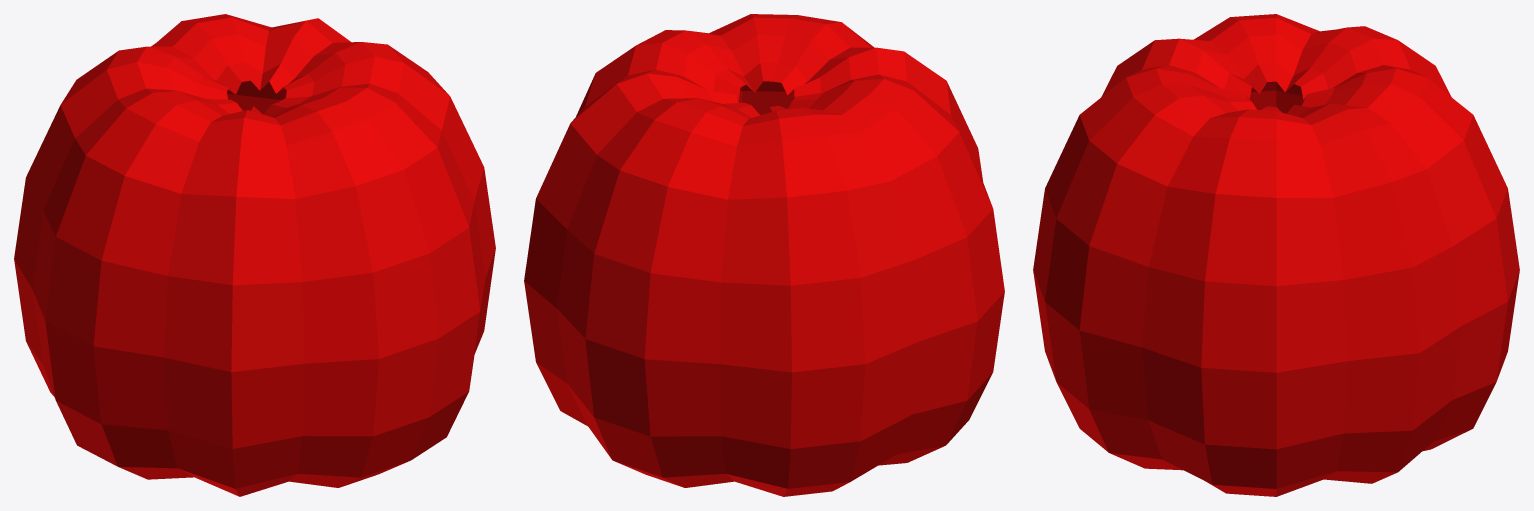
Rendered from Capsicum.obj.fbx.
The picture shows the model from 3 angles, left to right: view 1: azimuth 30°, elevation 25°; view 2: azimuth 150°, elevation 25°; view 3: azimuth 270°, elevation 25°; orthographic projection.
Parts seen in each view (by area): view 1: polySurface4; view 2: polySurface4; view 3: polySurface4.
Part boxes in pixels (box(x1,y1,x2,y2)): polySurface4: box(14, 14, 495, 496); polySurface4: box(524, 14, 1004, 496); polySurface4: box(1033, 14, 1519, 496).
Size of the model in its own units: 2.5 by 2.13 by 2.5.
